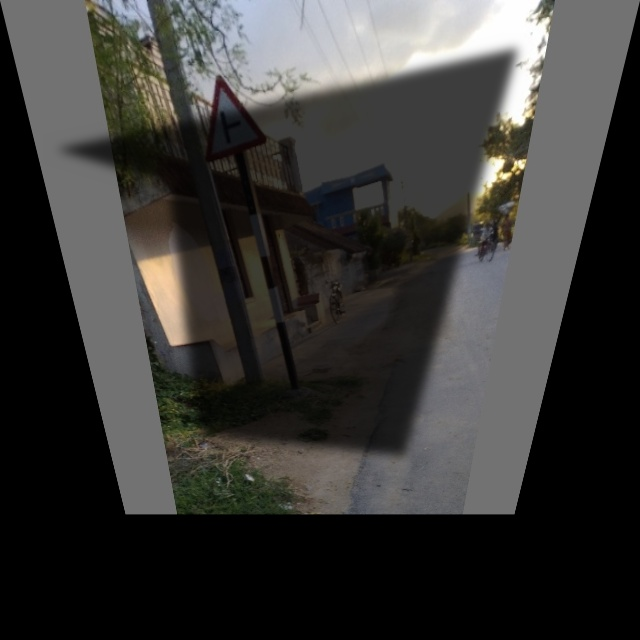Side_Road_Right: (192, 75, 276, 159)
